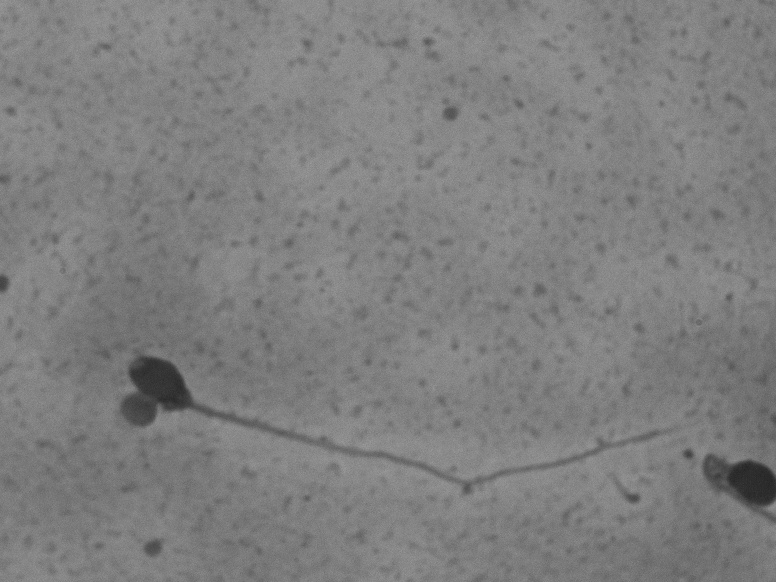Abnormal: (106, 294, 661, 509)
